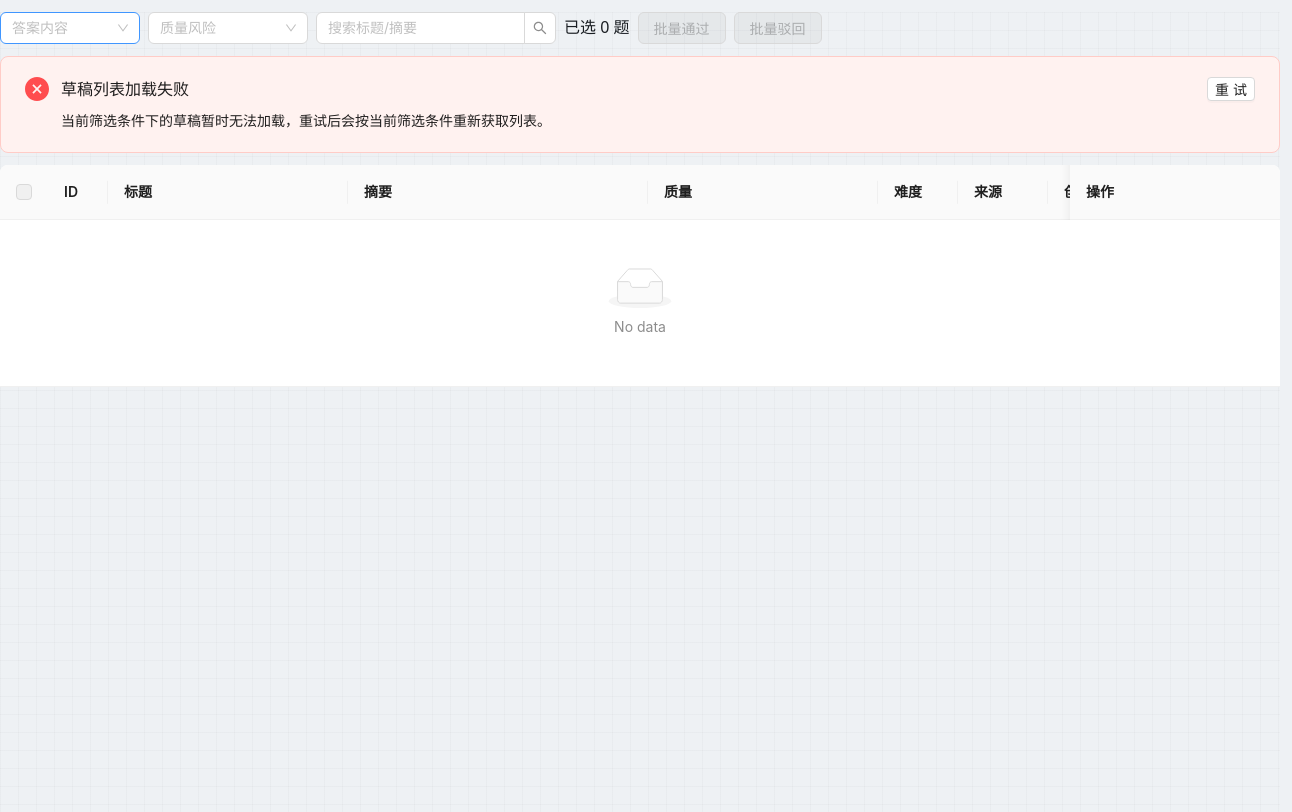
Test: DraftReview › shows a recoverable inline error when the draft list fails silently
Expected: the text "草稿列表加载失败" is shown, [61,79,189,99]
Click the button "重 试" at (1231, 89), box [1207,77,1255,101]
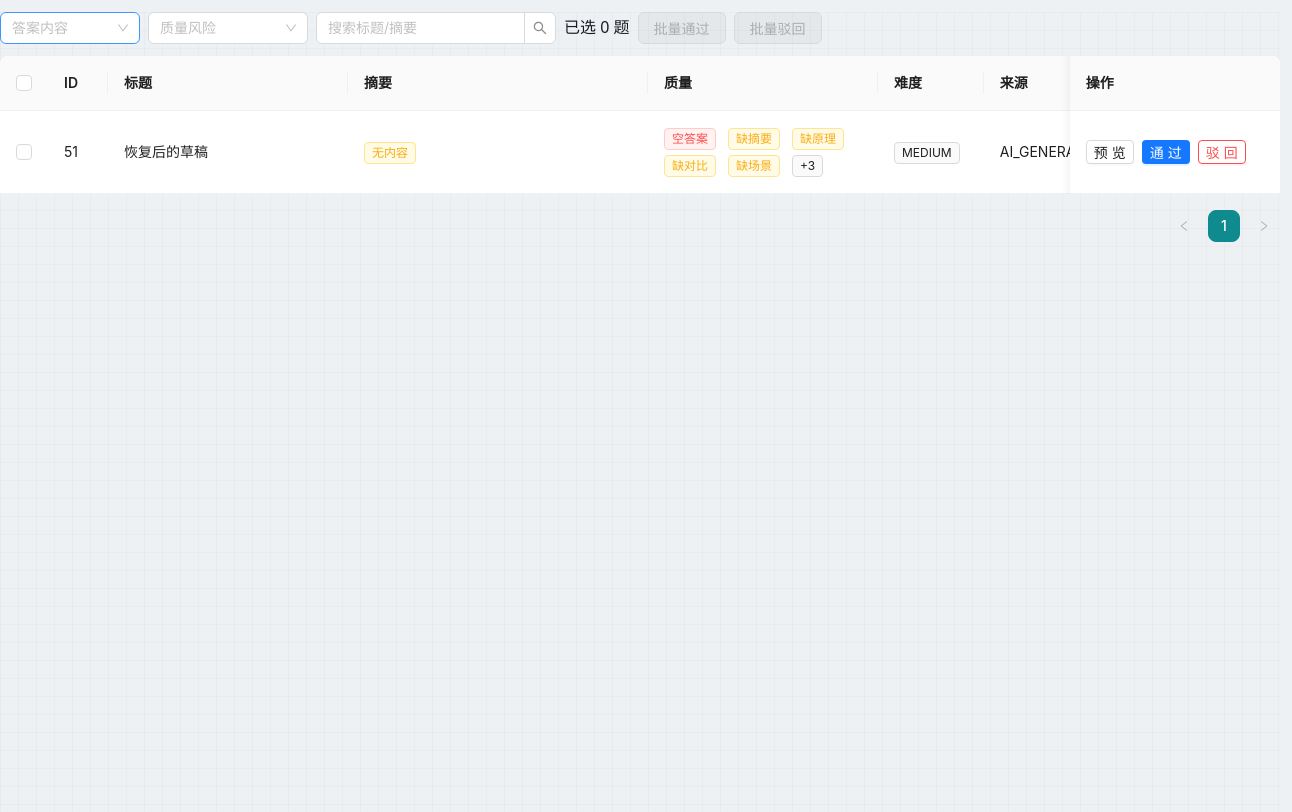
Now the text "恢复后的草稿" is shown, box [108,111,348,194]
Now the text "草稿列表加载失败" is gone
